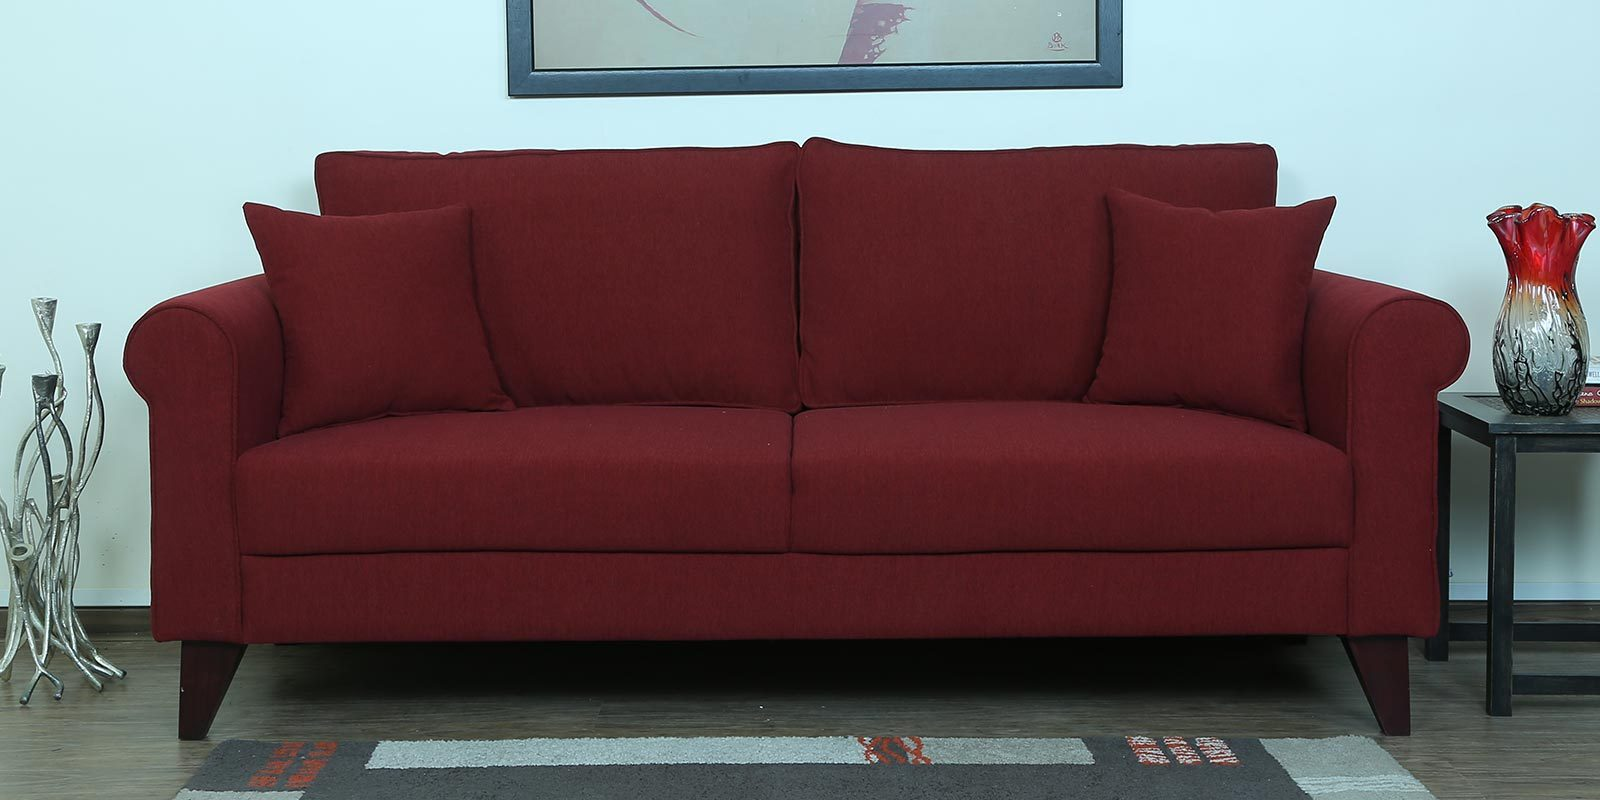Fuego Three Seater Sofa in Garnet Red Colour by CasaCraft: (118, 137, 1479, 772)
